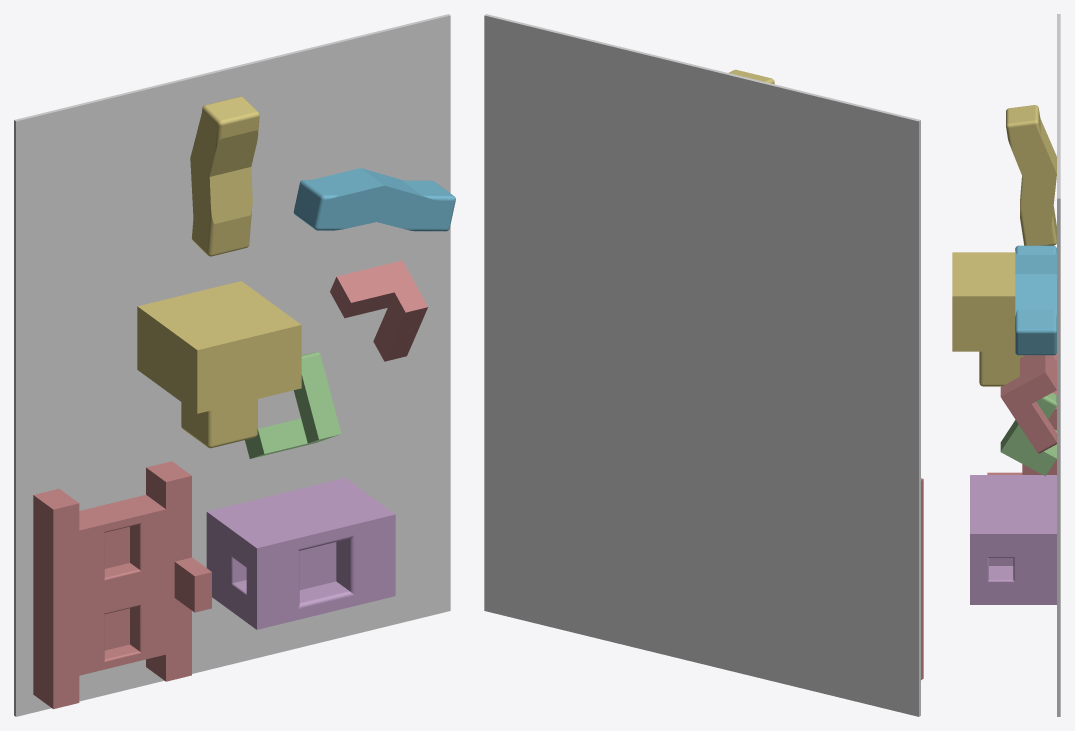
File: pickup_layout.glb
3 views of the same model, side by side, from view 1: azimuth 30°, elevation 25°; view 2: azimuth 150°, elevation 25°; view 3: azimuth 270°, elevation 25° (orthographic). The views are drawn at different scales.
Parts seen in each view (by area): view 1: world, 0.obj, 3.obj, 6.obj, 1.obj, 2.obj, 5.obj, 4.obj; view 2: world; view 3: 3.obj, 6.obj, 1.obj, 2.obj, 5.obj, world, 4.obj, 0.obj.
Part boxes in pixels (left/top/right/bottom): world: left=14, top=14, right=450, bottom=716; 0.obj: left=33, top=461, right=211, bottom=709; 3.obj: left=206, top=478, right=395, bottom=629; 6.obj: left=137, top=281, right=301, bottom=448; 1.obj: left=190, top=96, right=259, bottom=256; 2.obj: left=293, top=168, right=455, bottom=231; 5.obj: left=330, top=260, right=427, bottom=361; 4.obj: left=245, top=352, right=341, bottom=458; world: left=484, top=14, right=920, bottom=716; 3.obj: left=970, top=475, right=1056, bottom=604; 6.obj: left=952, top=252, right=1024, bottom=386; 1.obj: left=1006, top=105, right=1056, bottom=245; 2.obj: left=1015, top=245, right=1056, bottom=355; 5.obj: left=1000, top=355, right=1056, bottom=453; world: left=1057, top=14, right=1060, bottom=716; 4.obj: left=1000, top=393, right=1056, bottom=476; 0.obj: left=987, top=353, right=1056, bottom=474.
Bounding box in the file's own units: 25.07 × 32.82 × 6.2.
